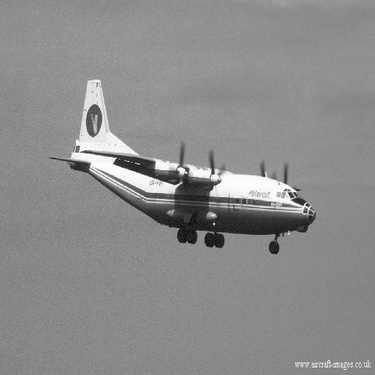airplane: (37, 67, 323, 260)
